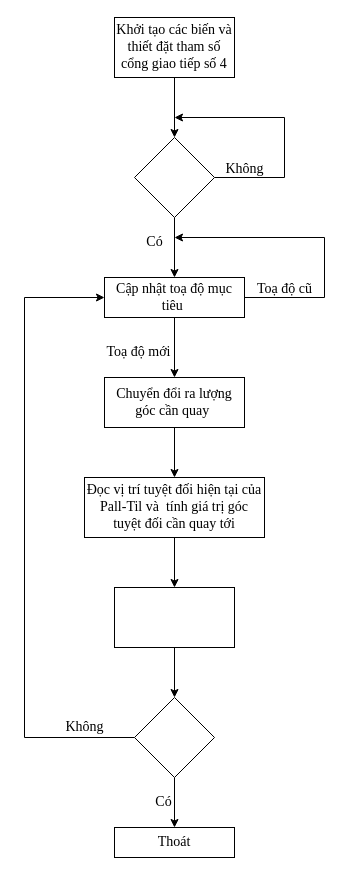
Some shapes in this 350 by 875 pixel diagram are drawn without their labels. The centre of each missing label's shape, as x and y in pixels:
Chuyển đổi thành mã lệnh HEX: (x=174, y=617)
Kết thúc: (x=174, y=737)
Đợi tín hiệu bám: (x=174, y=177)
